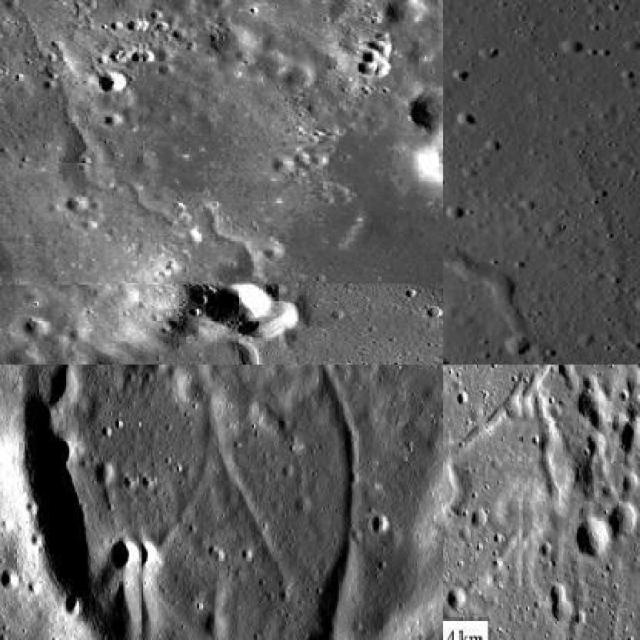crater: (60, 95, 372, 363), (206, 364, 362, 638), (444, 202, 553, 363), (528, 364, 640, 500)
